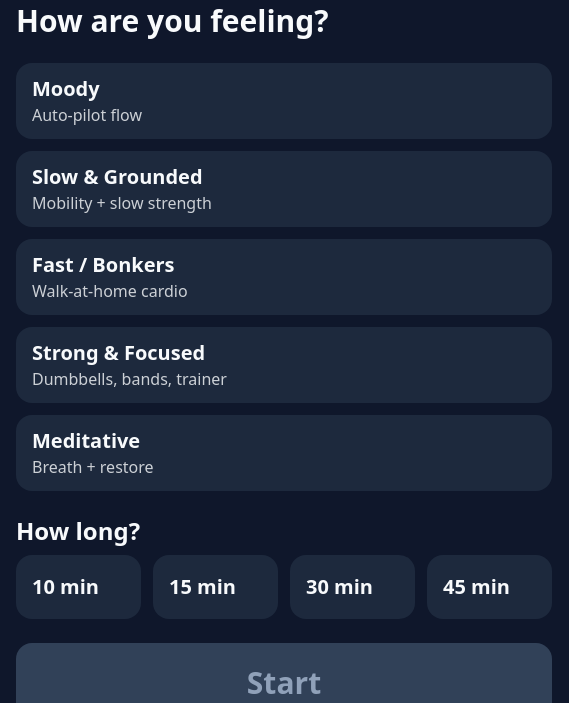
2-tap check-in › keeps Start disabled until mood and time are both chosen
What coordinates should you click on to do the following:
click the radio button labelled "Moody Auto-pilot flow"
I would click on:
 (66, 88)
Its box is [16, 63, 552, 139].
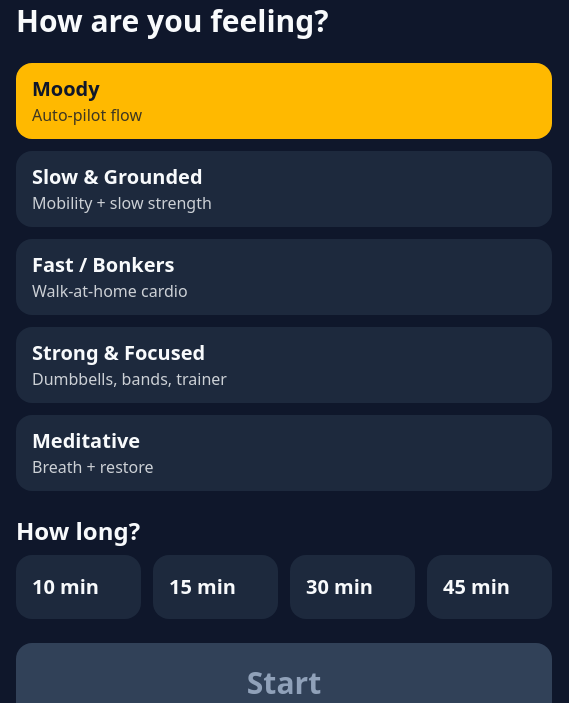
What coordinates should you click on to do the following:
click the radio button labelled "15 min"
I would click on:
 (216, 587)
Its box is [153, 555, 278, 619].
(page scrolled)
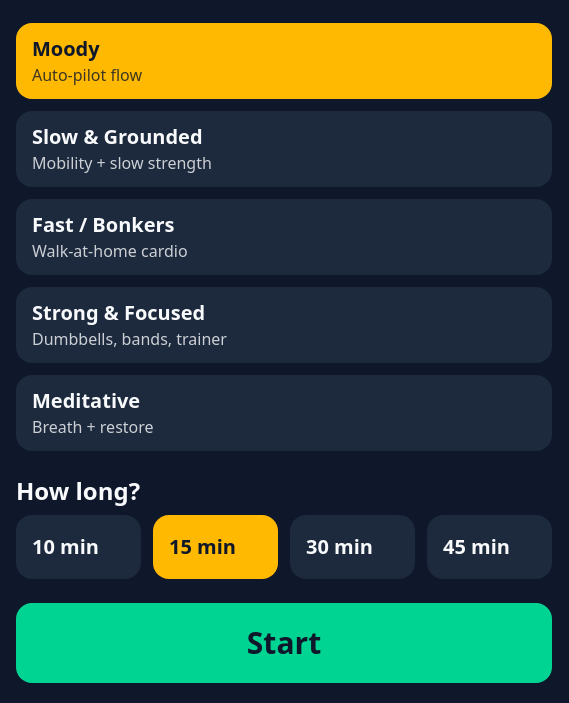
Expected: the button "Start" is enabled, [16, 603, 552, 683]
